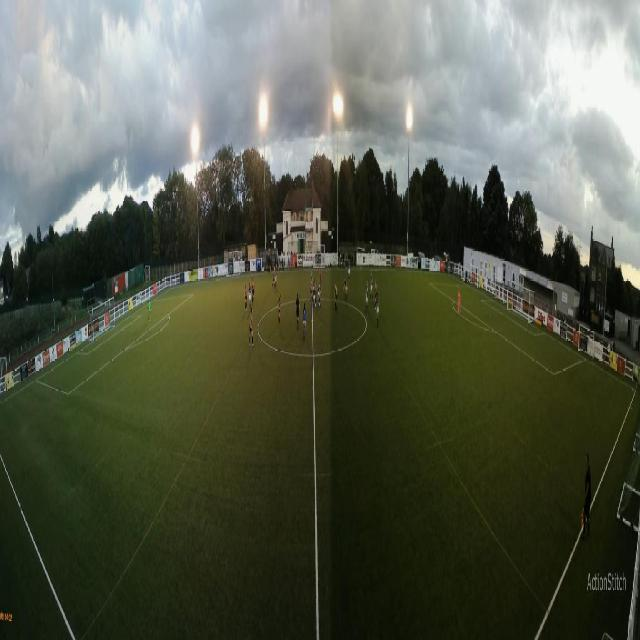player: (249, 305, 256, 350), (303, 298, 307, 343), (296, 291, 300, 332), (277, 292, 281, 329), (376, 292, 380, 328), (334, 280, 338, 314), (365, 280, 369, 314), (244, 282, 248, 314), (343, 276, 348, 301), (369, 271, 373, 301), (457, 287, 461, 317), (148, 296, 152, 325), (251, 276, 255, 305), (318, 266, 322, 294), (271, 267, 275, 291), (249, 282, 252, 313), (375, 279, 378, 310), (310, 274, 313, 304), (315, 278, 318, 308), (318, 281, 321, 307), (348, 259, 351, 284), (313, 280, 315, 308), (275, 263, 277, 289)
